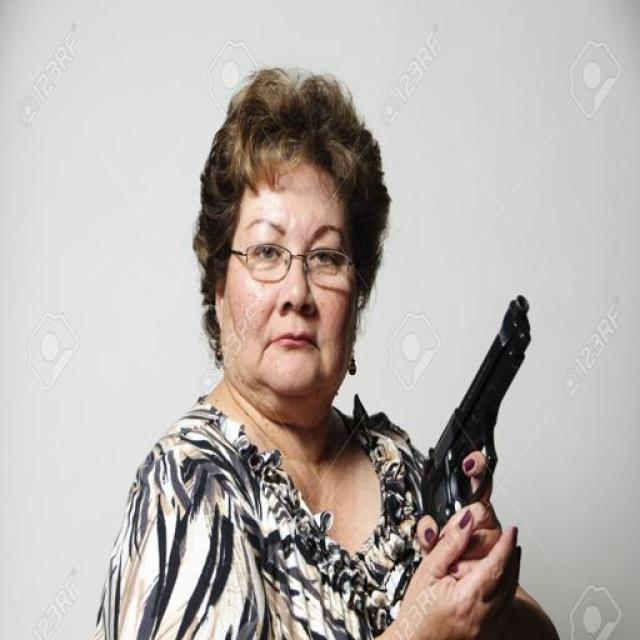pistol: (416, 287, 535, 561)
